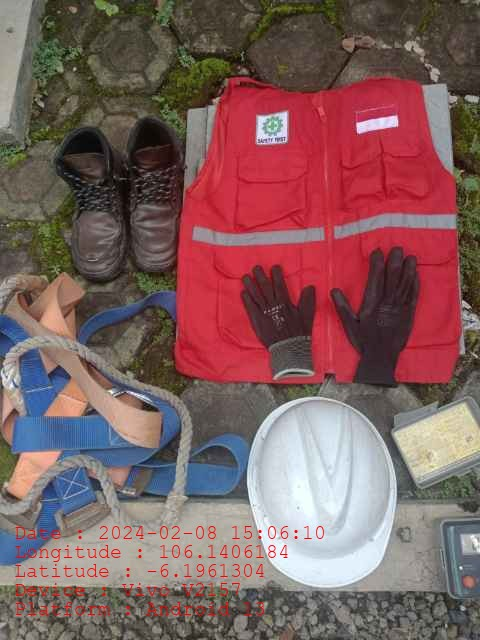SARUNG_TANGAN: (331, 246, 419, 384), (239, 263, 316, 379)
SEPATU: (52, 118, 181, 280)
